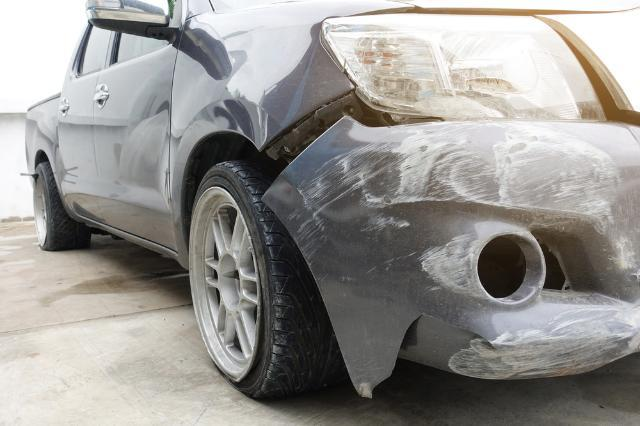crack: (393, 313, 498, 357)
dislocated part: (260, 90, 639, 394)
lamp broken: (322, 10, 613, 123)
scratch: (288, 119, 640, 277), (446, 304, 640, 381), (416, 233, 489, 300)
tire flat: (190, 159, 351, 401), (29, 161, 89, 251)
